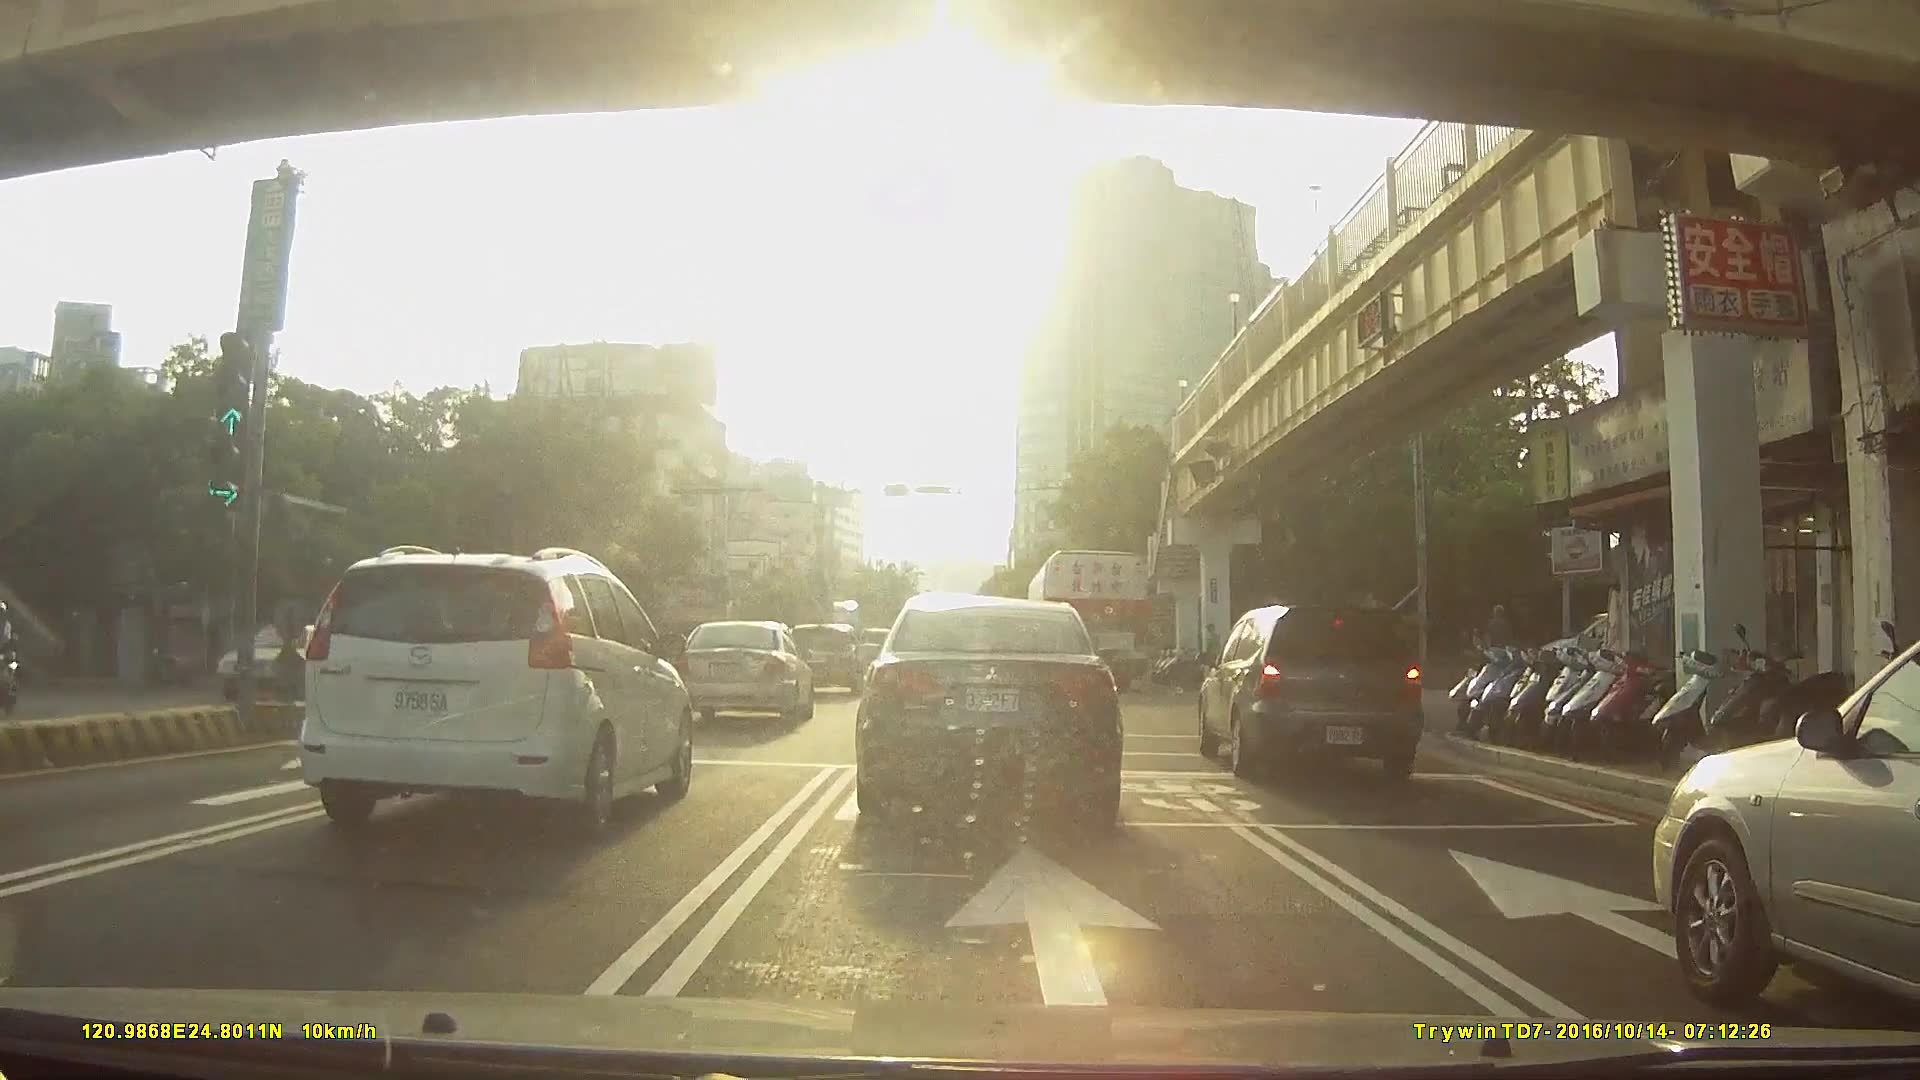pedestrian: (1205, 619, 1232, 682)
vehicle: (296, 543, 696, 838), (1651, 643, 1920, 1015), (852, 590, 1122, 829), (1198, 600, 1424, 779), (1026, 550, 1148, 692), (676, 619, 813, 725), (214, 622, 363, 701), (779, 624, 863, 696)
